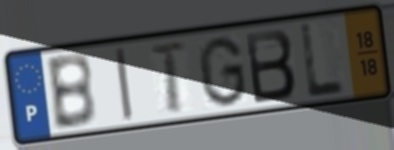B: (43, 50, 99, 133), (242, 26, 299, 106)
G: (195, 34, 250, 110)
I: (113, 44, 136, 124)
L: (298, 20, 349, 101)
T: (148, 39, 190, 116)
